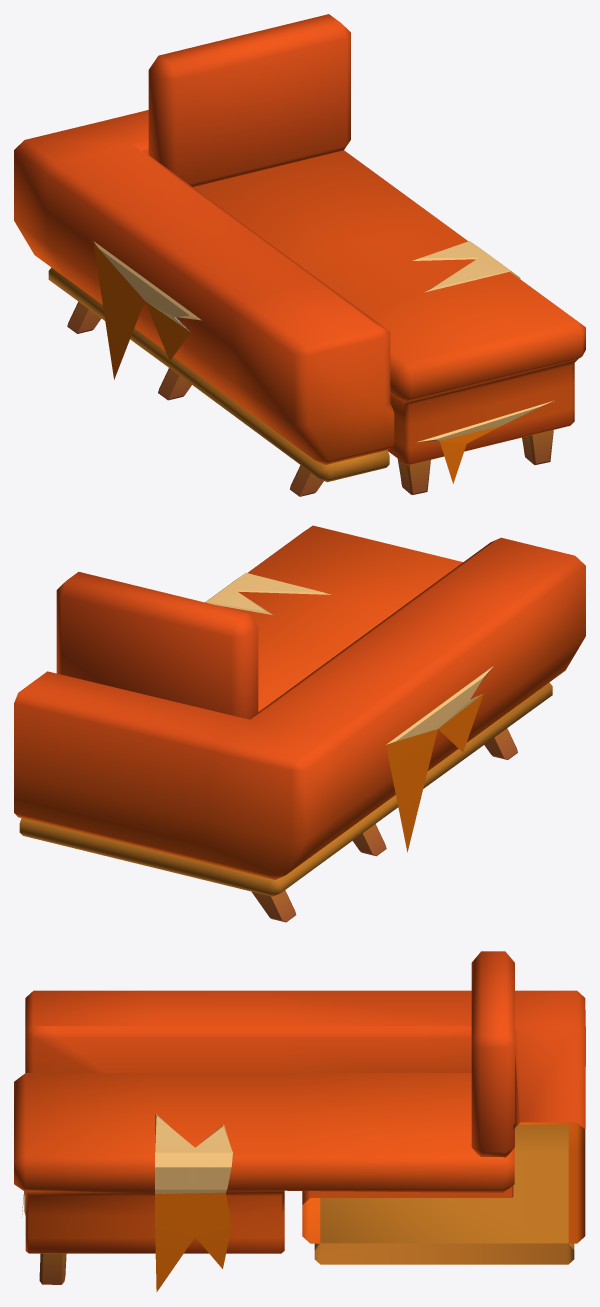
The model's file is Sofa_R_Long_Damaged.fbx.
The picture shows the model from 3 angles, top to bottom: view 1: azimuth 30°, elevation 25°; view 2: azimuth 150°, elevation 25°; view 3: azimuth 270°, elevation 25°; orthographic projection. The views are drawn at different scales.
Parts seen in each view (by area): view 1: LargestSofa._R_LongEnd_Damaged; view 2: LargestSofa._R_LongEnd_Damaged; view 3: LargestSofa._R_LongEnd_Damaged.
Part boxes in pixels (box(x1,y1,x2,y2)): LargestSofa._R_LongEnd_Damaged: box(14, 14, 585, 496); LargestSofa._R_LongEnd_Damaged: box(14, 525, 585, 922); LargestSofa._R_LongEnd_Damaged: box(14, 951, 585, 1291).
Bounding box in the file's own units: 4.54 × 4 × 7.96.
